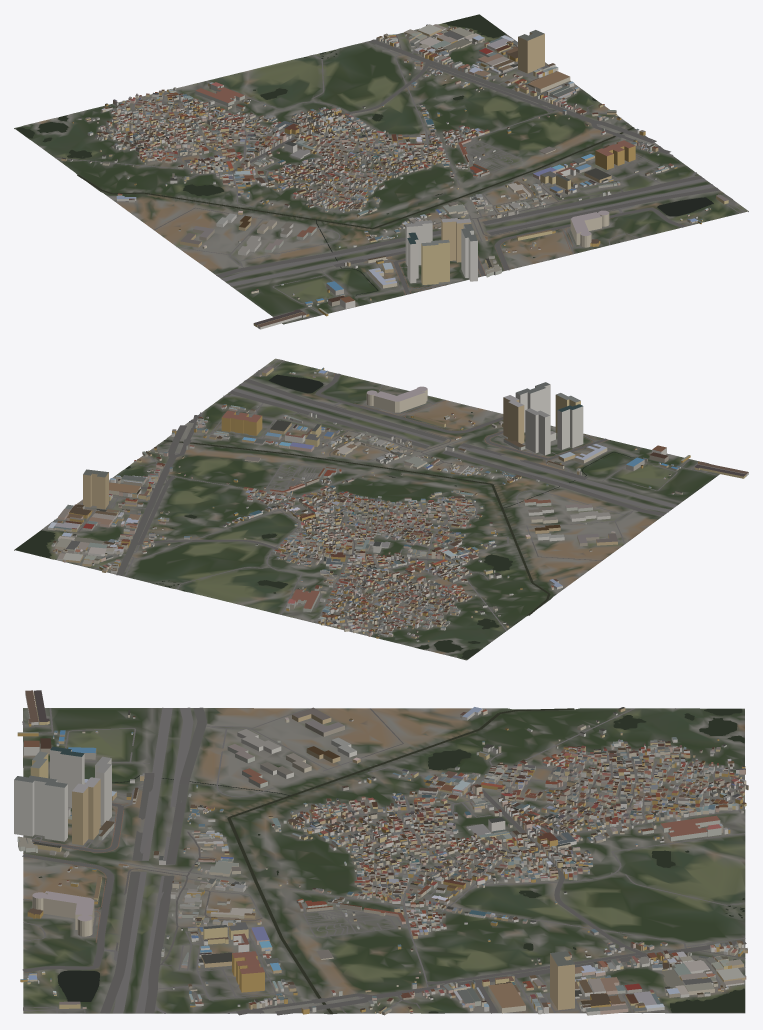
3 views of the same model, one above another, from view 1: azimuth 30°, elevation 25°; view 2: azimuth 150°, elevation 25°; view 3: azimuth 270°, elevation 25° (orthographic). The views are drawn at different scales.
Visible parts, largest first — view 1: ground, buildings, roads, water; view 2: ground, buildings, roads, water; view 3: ground, buildings, roads, water.
Part boxes in pixels (bbox=[...]): ground: bbox=[14, 20, 748, 324]; buildings: bbox=[61, 24, 728, 329]; roads: bbox=[39, 30, 744, 319]; water: bbox=[16, 14, 713, 295]; ground: bbox=[14, 358, 719, 660]; buildings: bbox=[48, 366, 748, 641]; roads: bbox=[42, 359, 718, 641]; water: bbox=[15, 374, 634, 659]; ground: bbox=[23, 708, 745, 1014]; buildings: bbox=[14, 690, 748, 1015]; roads: bbox=[22, 707, 746, 1015]; water: bbox=[38, 708, 744, 1013].
Bounding box in the file's own units: 1479 × 120 × 1427.
